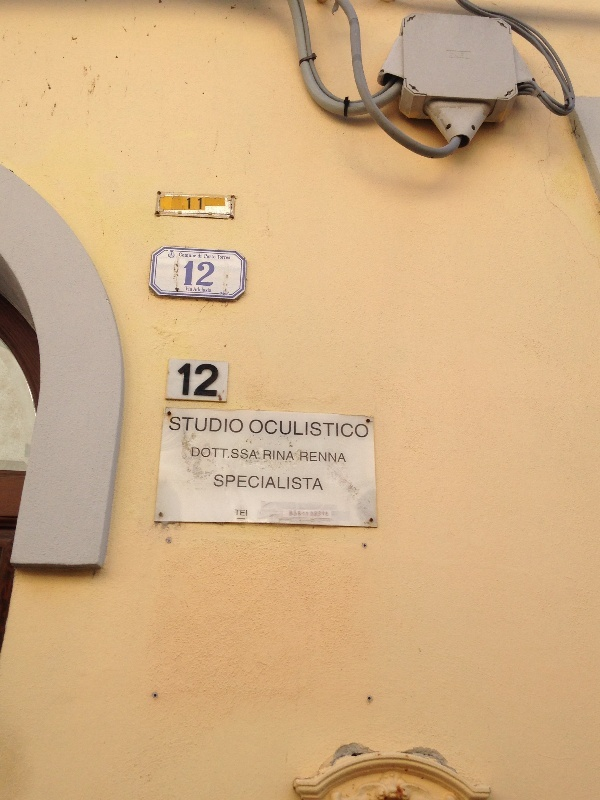text: (193, 363, 208, 397), (178, 363, 192, 397), (193, 261, 208, 287), (209, 363, 220, 397), (257, 419, 272, 439), (273, 419, 288, 439), (289, 419, 304, 439), (305, 419, 320, 439), (321, 419, 336, 439), (337, 419, 352, 439), (353, 419, 368, 439), (177, 416, 192, 433), (193, 416, 208, 433), (209, 416, 224, 433), (225, 416, 240, 433), (225, 474, 240, 491), (241, 474, 256, 491), (257, 474, 272, 491), (273, 474, 288, 491), (289, 474, 304, 491), (305, 474, 320, 491), (193, 447, 208, 460), (209, 447, 224, 460), (225, 447, 240, 460), (241, 447, 256, 460), (185, 261, 192, 287), (273, 450, 288, 462), (305, 451, 320, 463), (321, 451, 336, 463), (209, 261, 215, 287), (215, 474, 224, 491), (250, 419, 256, 439), (193, 198, 202, 210), (337, 451, 346, 463), (289, 511, 304, 518), (305, 511, 320, 518), (264, 450, 272, 462), (171, 416, 176, 433), (179, 252, 192, 258), (195, 287, 208, 293), (289, 450, 295, 462), (187, 198, 192, 210), (199, 253, 208, 259), (321, 474, 324, 491), (241, 510, 248, 517), (321, 511, 328, 518), (301, 451, 304, 463), (209, 254, 216, 259), (217, 255, 224, 260), (235, 510, 240, 517), (241, 416, 243, 433), (186, 287, 192, 292), (225, 255, 230, 260), (193, 252, 197, 258), (209, 287, 212, 293), (205, 254, 208, 259), (257, 447, 258, 460)
